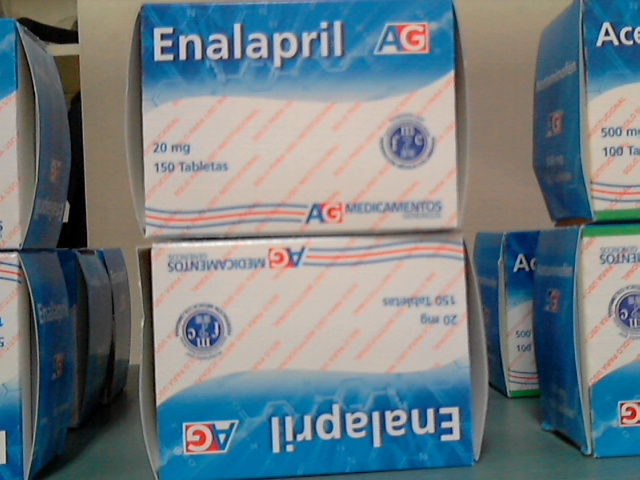AG: (157, 245, 471, 472), (143, 5, 457, 228)
